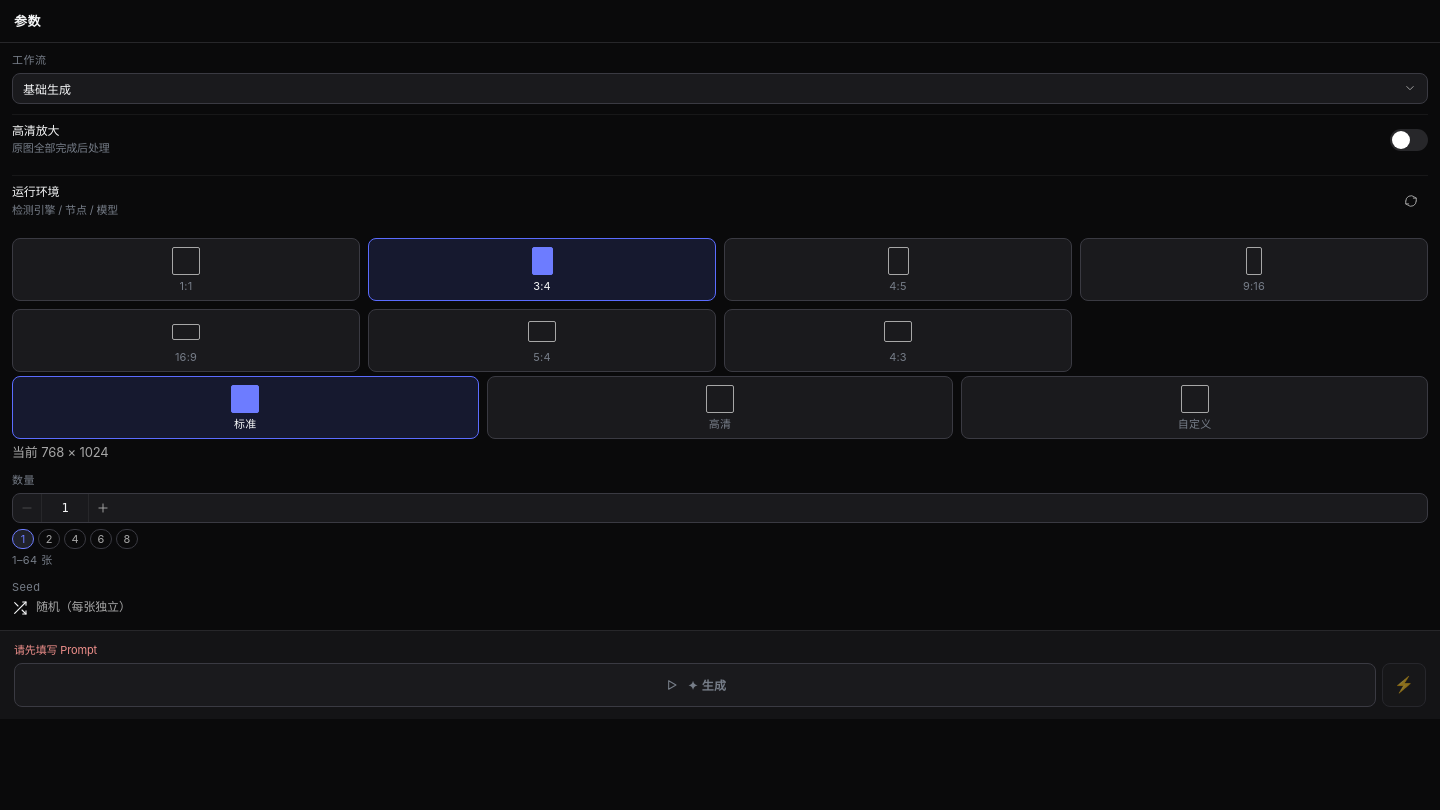
Test: W2.0 Runtime Preflight UI › READY：点击检测后显示可运行状态
Click the button named "检查运行环境" at {"x": 1411, "y": 201}, box top-left (1394, 184), bottom-right (1428, 218)
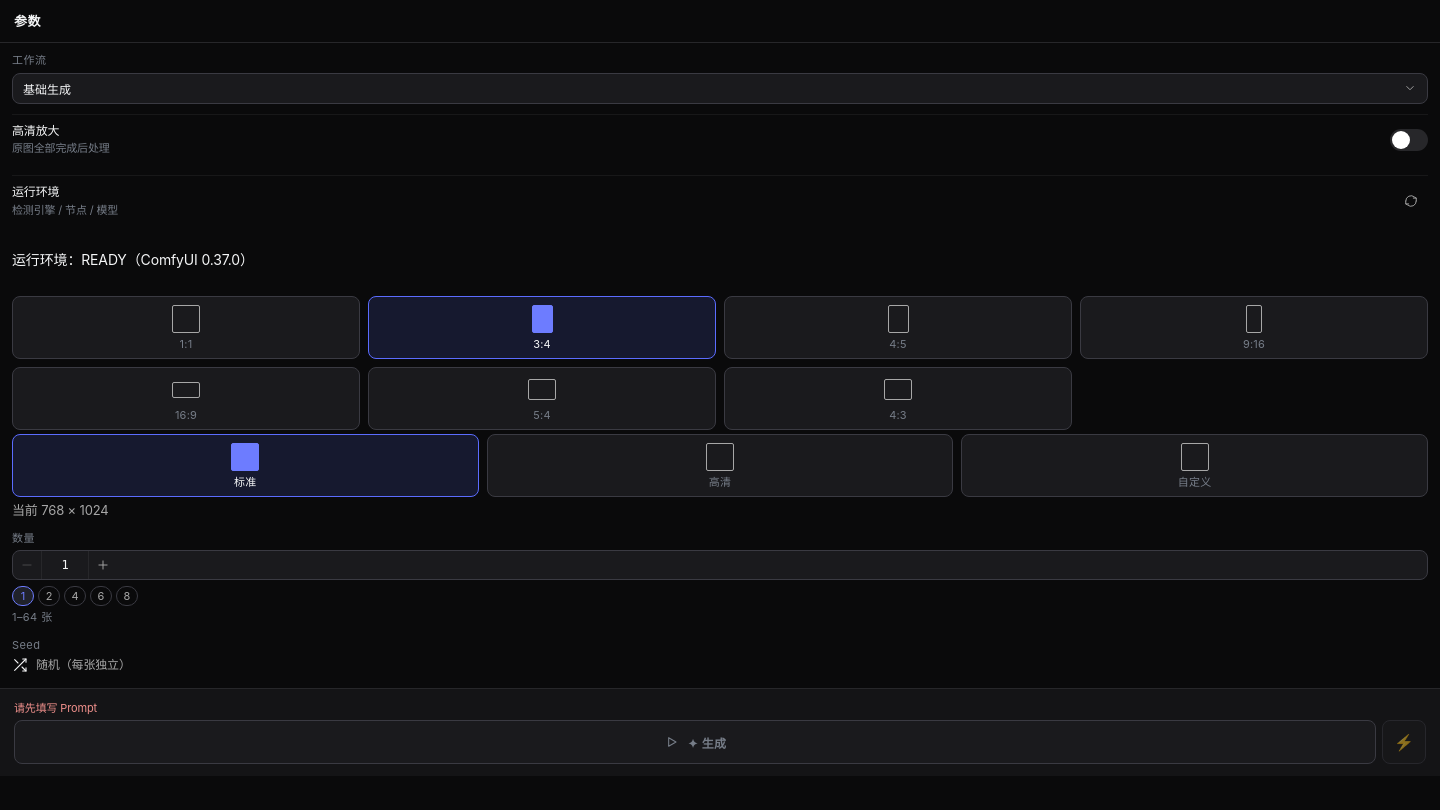
expect the message with test id "runtime-preflight-status" shows "READY": met, box top-left (81, 251), bottom-right (127, 268)
